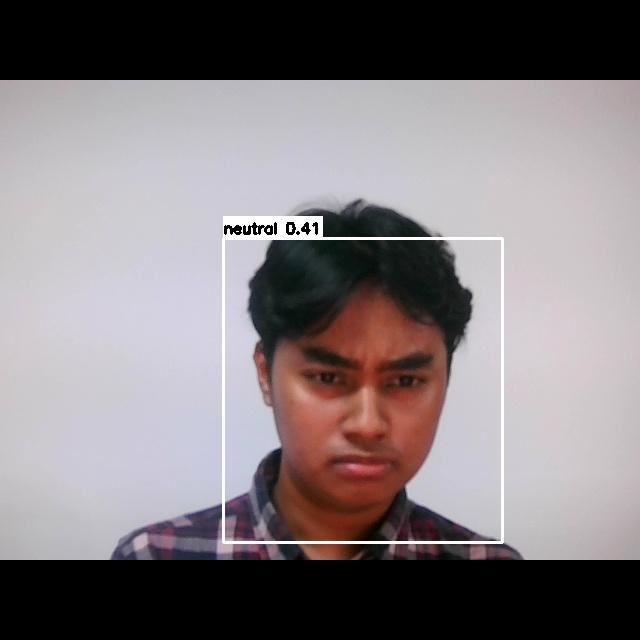Angry: (279, 324, 459, 502)
